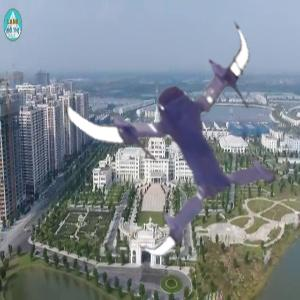drone: (71, 15, 295, 239)
